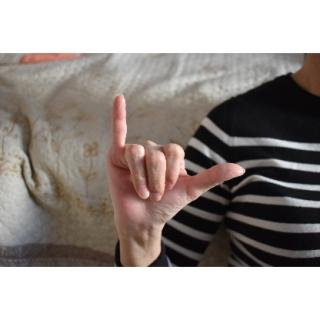YA: (106, 92, 249, 242)
